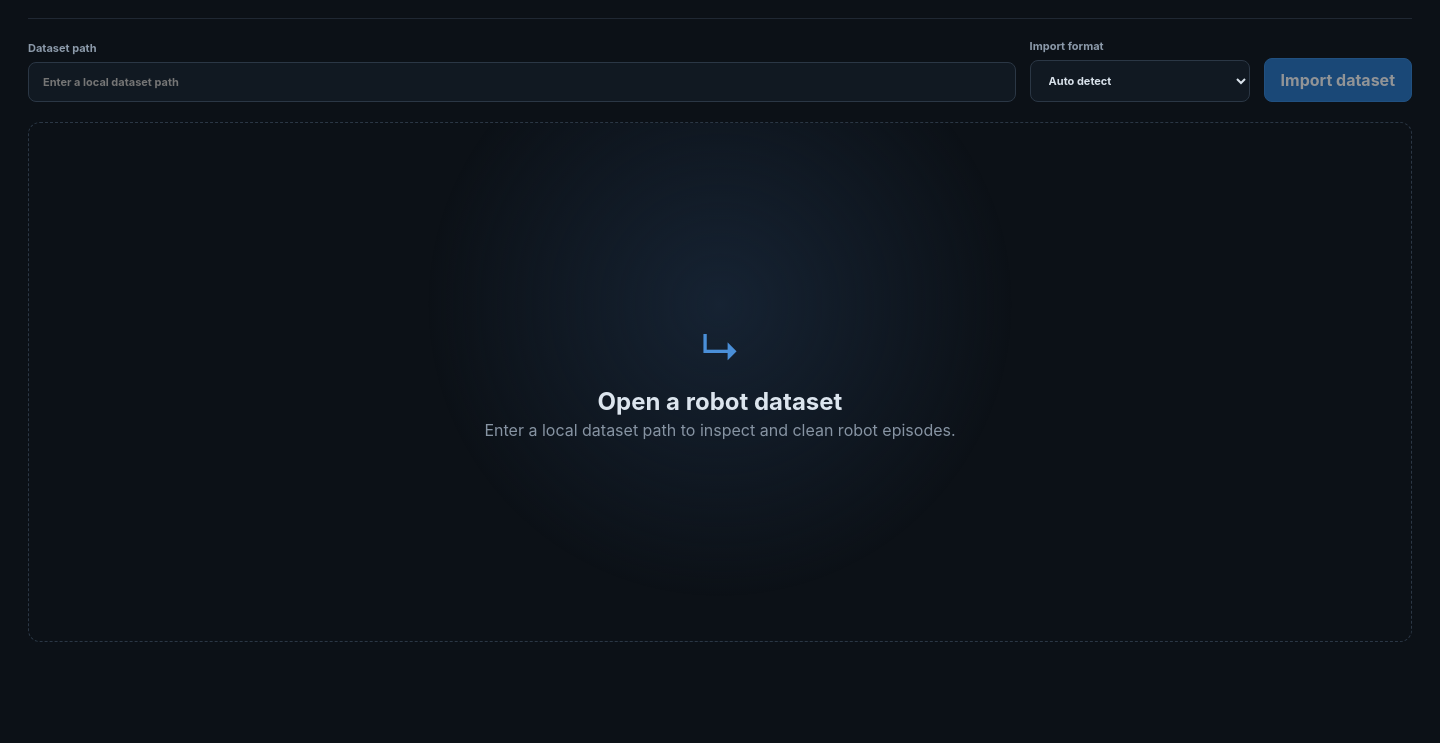
Test: imports a dataset and renders its episodes
Type "/tmp/pusht" into the field labelled "Dataset path". click: (522, 82)
box: [28,62,1016,102]
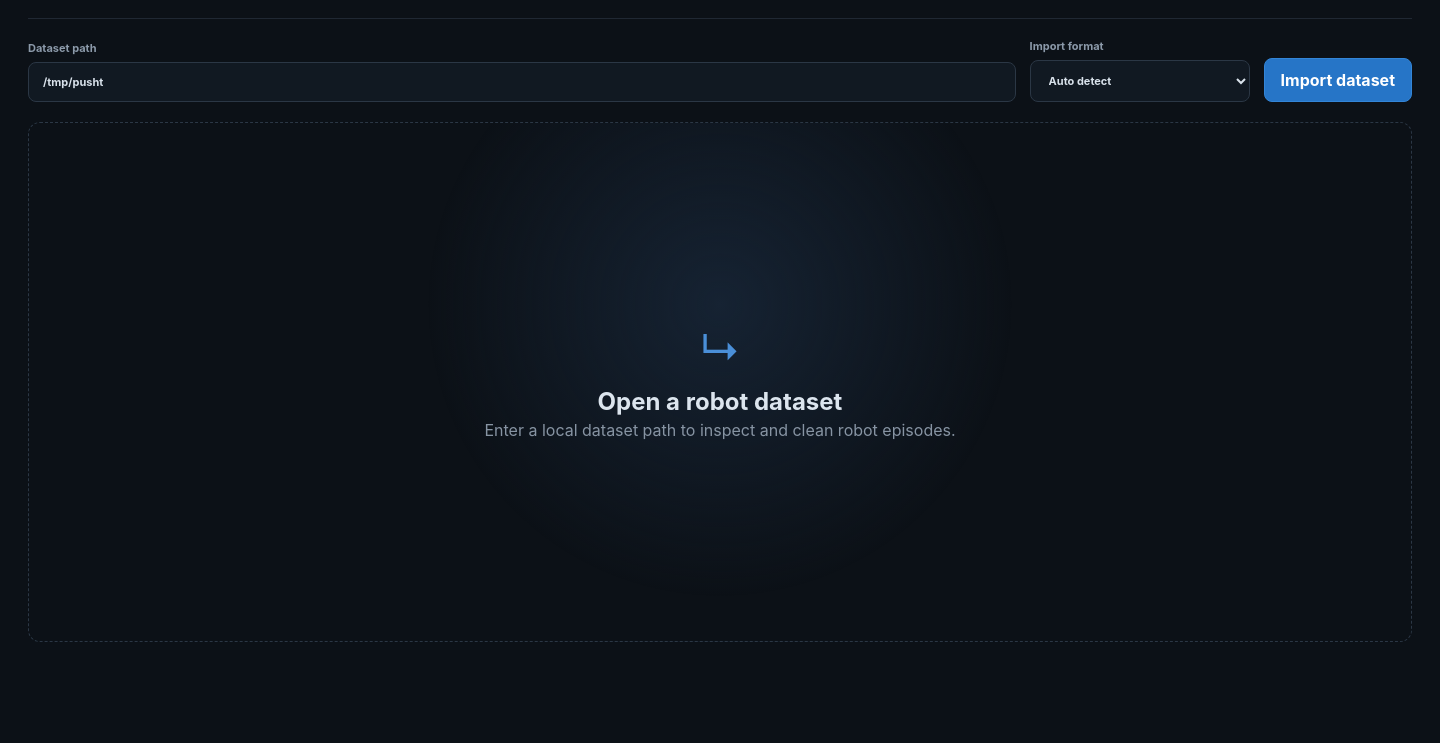
Click the button "Import dataset". click: (1338, 80)
box: [1264,58,1412,102]
(page scrolled)
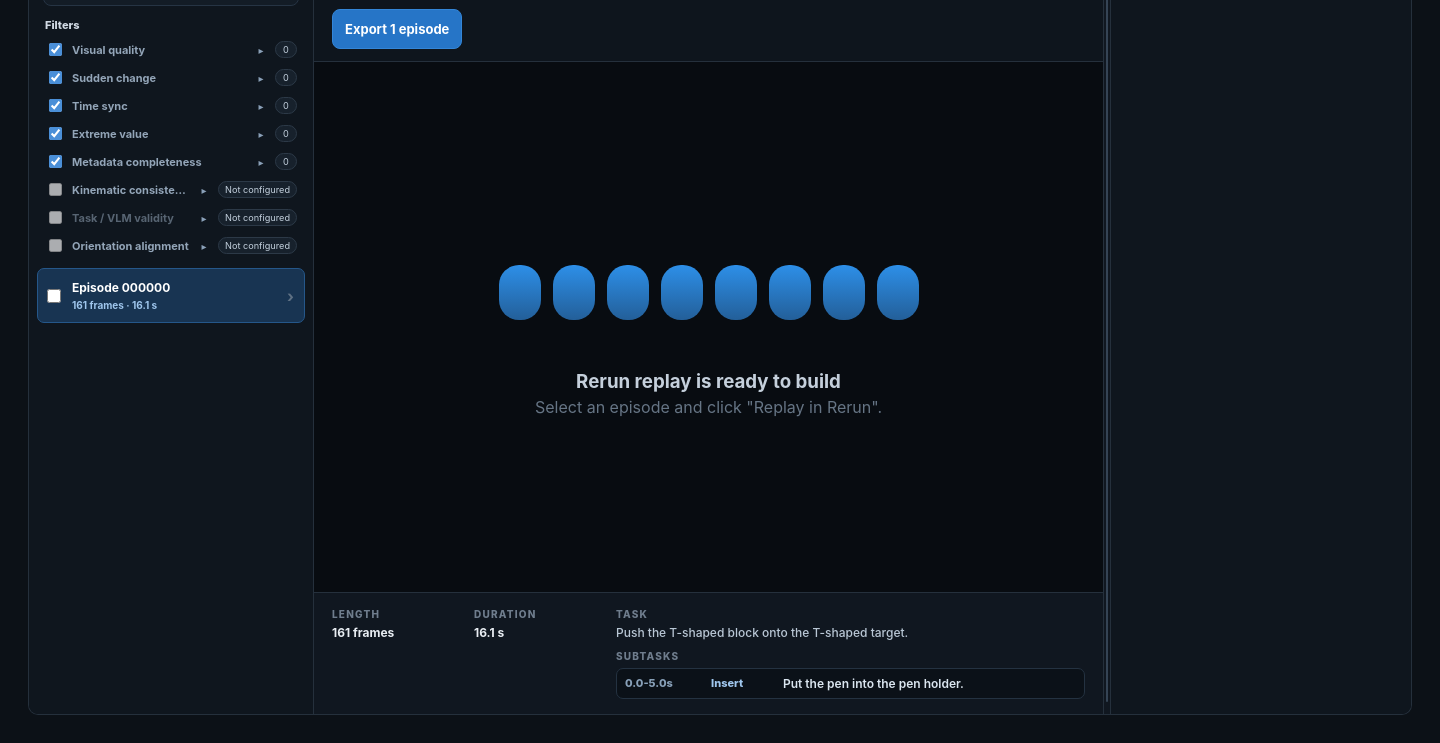
Check: the text "Episode 000000" is shown, box [72,280,170,295]
Check: the text "Put the pen into the pen holder." is shown, box [783,676,964,691]
